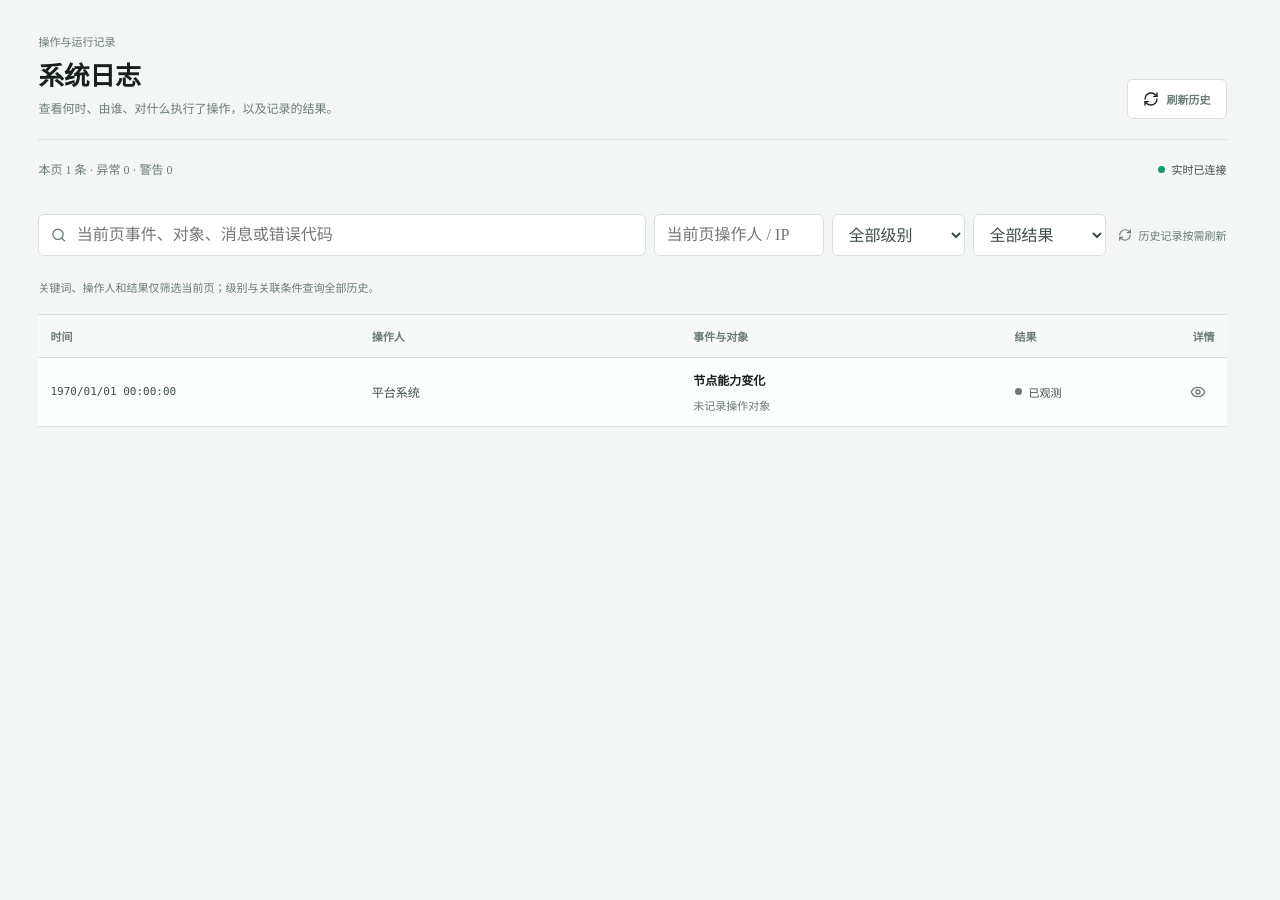
production App language runtime › translates the real log page and drawer without a test language provider
Check: the heading "系统日志" is shown, box x1=38 y1=62 x2=141 y2=91
Check: the button "刷新历史" is shown, box x1=1127 y1=79 x2=1227 y2=119
Click the button named "查看日志详情". click: (1198, 392)
box: x1=1181 y1=375 x2=1215 y2=409
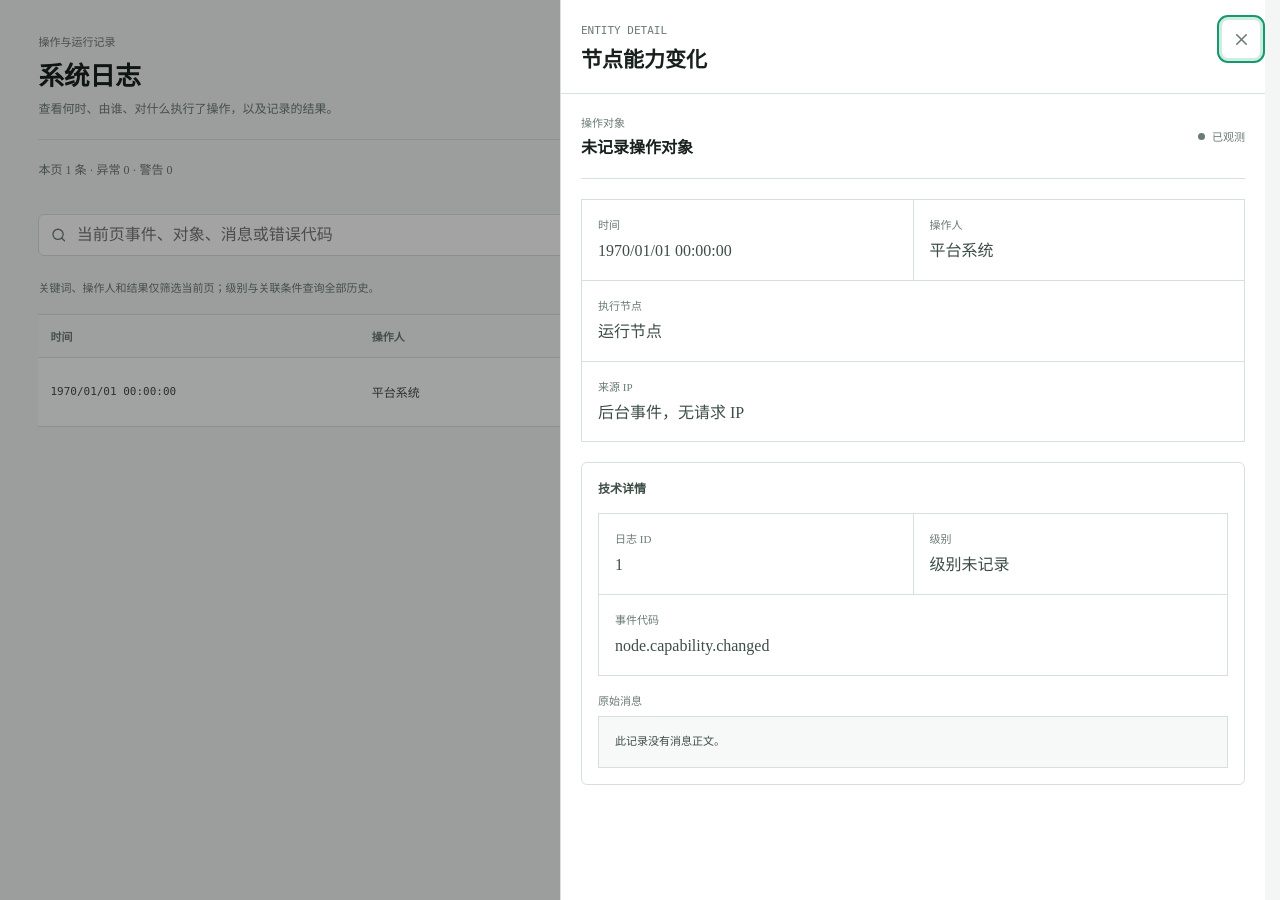
Check: the heading "节点能力变化" is shown, box x1=581 y1=43 x2=707 y2=73
